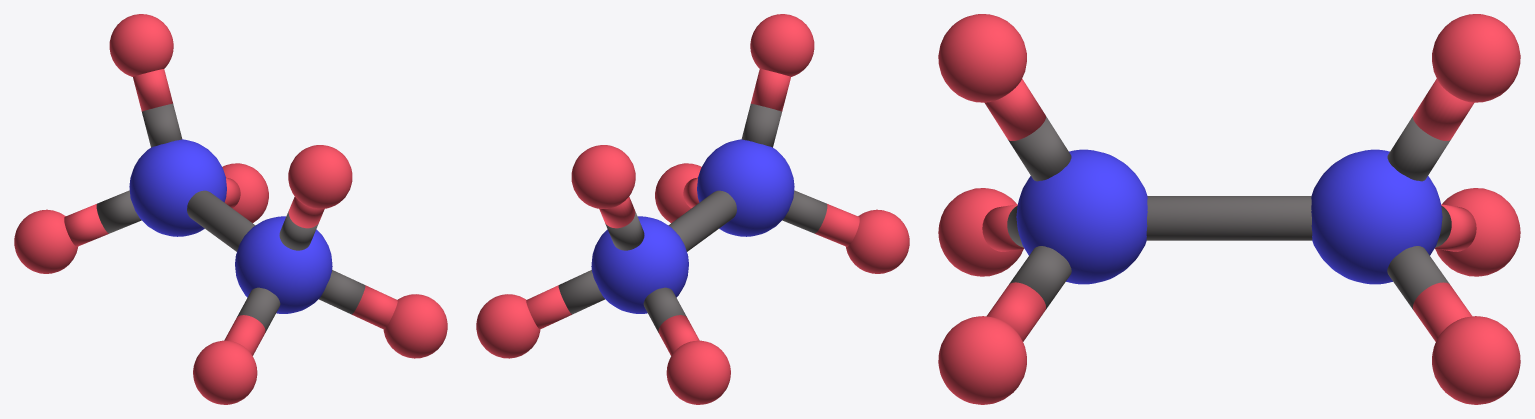
Rendered from etan.gltf.
The picture shows the model from 3 angles, left to right: view 1: azimuth 30°, elevation 25°; view 2: azimuth 150°, elevation 25°; view 3: azimuth 270°, elevation 25°; orthographic projection. The views are drawn at different scales.
Visible parts, largest first — view 1: Cylinder.002, Cylinder.001, Cylinder.004; view 2: Cylinder.001, Cylinder.002, Cylinder.004; view 3: Cylinder.002, Cylinder.001, Cylinder.004.
Part boxes in pixels (x1=…): Cylinder.002: x1=193, y1=145, x2=447, y2=404; Cylinder.001: x1=14, y1=14, x2=268, y2=273; Cylinder.004: x1=187, y1=190, x2=255, y2=251; Cylinder.001: x1=476, y1=145, x2=730, y2=404; Cylinder.002: x1=655, y1=14, x2=909, y2=273; Cylinder.004: x1=668, y1=190, x2=736, y2=251; Cylinder.002: x1=938, y1=14, x2=1147, y2=404; Cylinder.001: x1=1311, y1=14, x2=1520, y2=404; Cylinder.004: x1=1146, y1=196, x2=1312, y2=240.
Bounding box in the file's own units: 5.81 × 5.21 × 8.63.
